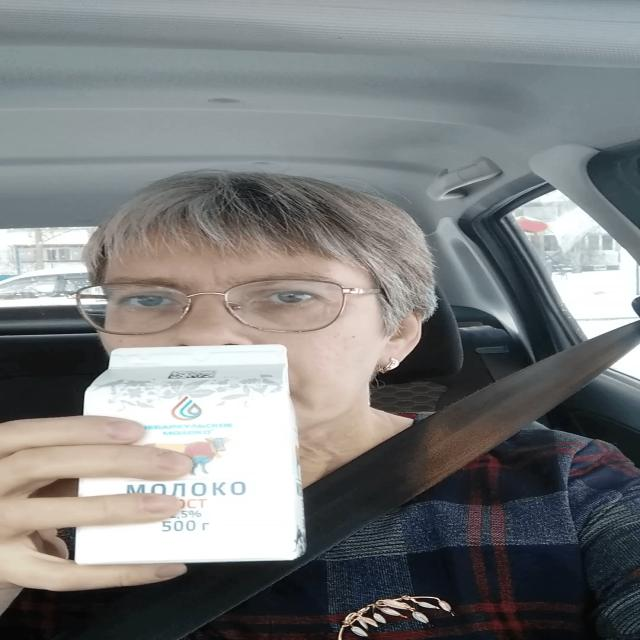3: (115, 330, 632, 634)
Seatbelt: (69, 342, 304, 574)
